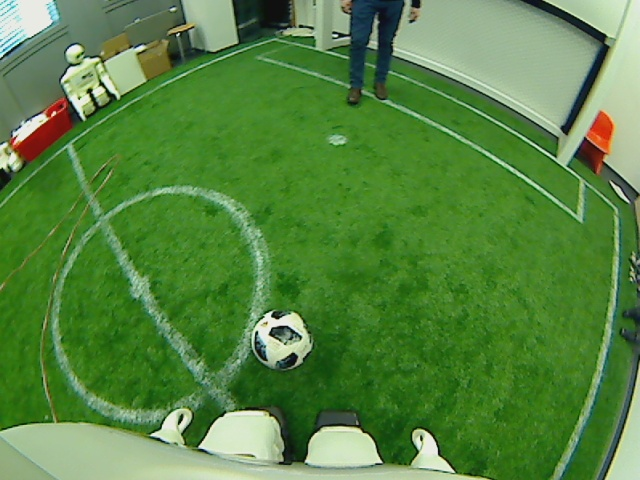ball: (252, 308, 312, 372)
